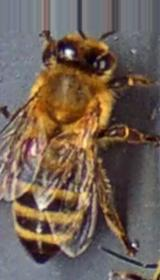varroa_mite: (16, 125, 46, 168)
